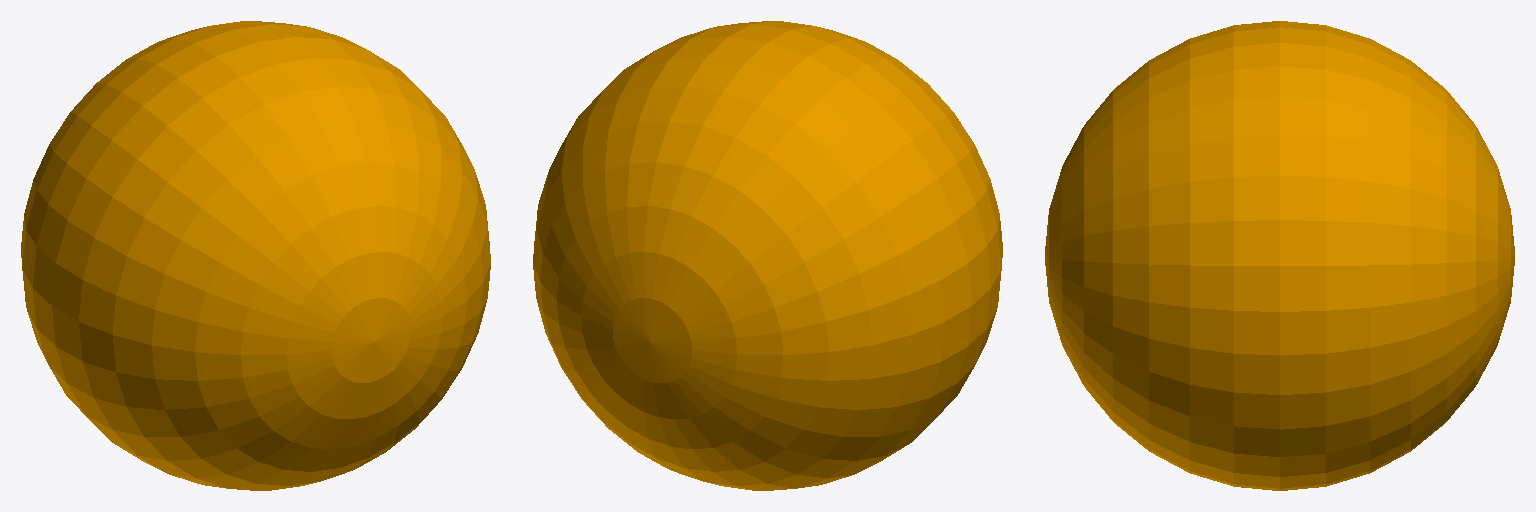
The robot description file, URDF, robot "object":
<?xml version="1.0"?>
<robot name="object">
  <link name="object">
    <visual>
      <origin xyz="0 0 0"/>
      <geometry>
        <mesh filename="meshes/final/final_obj6_ball.obj" scale=".065 .065 .065"/>
      </geometry>
    </visual>
    <collision>
      <origin xyz="0 0 0"/>
      <geometry>
        <mesh filename="meshes/final/final_obj6_ball.obj" scale=".065 .065 .065"/>
<!--          <mesh filename="meshes/custom/obj0_ball.obj" scale=".05 .05 .05"/>-->
      </geometry>
    </collision>
    <inertial>
      <density value="1000.0"/>
    </inertial>
  </link>
</robot>

--- What the picture shows (computed from the rendered views, not written in the file) ---
The picture shows the robot from 3 angles, left to right: view 1: azimuth 30°, elevation 25°; view 2: azimuth 150°, elevation 25°; view 3: azimuth 270°, elevation 25°; orthographic projection.
Model object with 1 links and 0 joints (none), rooted at object, posed all joints at 0.
Links seen in each view (by area): view 1: object; view 2: object; view 3: object.
Link boxes in pixels (x1,y1,x2,y2): object: (21, 21, 490, 490); object: (533, 21, 1002, 490); object: (1045, 21, 1514, 490).
Bounding box of the posed robot: 0.078 × 0.078 × 0.078 m (x, y, z).
1 mesh visuals loaded from 1 distinct referenced files (1 OBJ).
